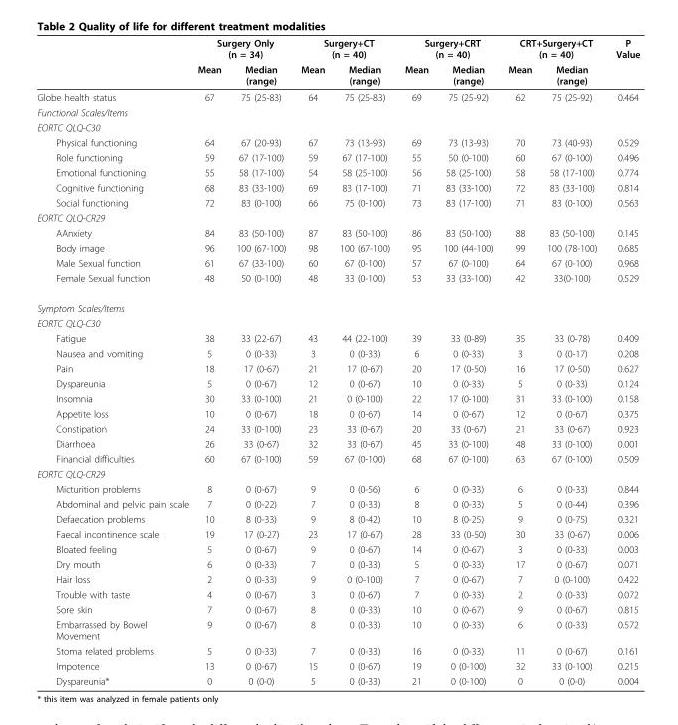table: (36, 36, 639, 686)
table column: (36, 36, 192, 686), (538, 36, 605, 686), (331, 36, 396, 686), (435, 36, 500, 686), (228, 36, 292, 686), (292, 36, 331, 686), (396, 36, 435, 686), (500, 36, 538, 686), (192, 36, 228, 686), (605, 36, 639, 686)
table column header: (36, 36, 639, 88)
table projected row header: (36, 292, 639, 315), (36, 104, 639, 119), (36, 119, 639, 134), (36, 210, 639, 225), (36, 315, 639, 330), (36, 466, 639, 481)
table row: (36, 61, 639, 88), (36, 616, 639, 643), (36, 36, 639, 61), (36, 292, 639, 315), (36, 270, 639, 292), (36, 88, 639, 104), (36, 194, 639, 210), (36, 450, 639, 466), (36, 104, 639, 119), (36, 119, 639, 134), (36, 134, 639, 149), (36, 149, 639, 164), (36, 164, 639, 179), (36, 179, 639, 194), (36, 210, 639, 225), (36, 225, 639, 240), (36, 240, 639, 255), (36, 255, 639, 270), (36, 315, 639, 330), (36, 330, 639, 345), (36, 345, 639, 360), (36, 360, 639, 375), (36, 375, 639, 390), (36, 390, 639, 405), (36, 405, 639, 420), (36, 420, 639, 435), (36, 435, 639, 450), (36, 466, 639, 481), (36, 481, 639, 496), (36, 496, 639, 511), (36, 511, 639, 526), (36, 526, 639, 541), (36, 541, 639, 556), (36, 556, 639, 571), (36, 571, 639, 586), (36, 586, 639, 601), (36, 601, 639, 616), (36, 643, 639, 658), (36, 658, 639, 673), (36, 673, 639, 686)
table spanning cell: (500, 36, 605, 61), (292, 36, 396, 61), (396, 36, 500, 61), (192, 36, 292, 61), (605, 36, 639, 88)
